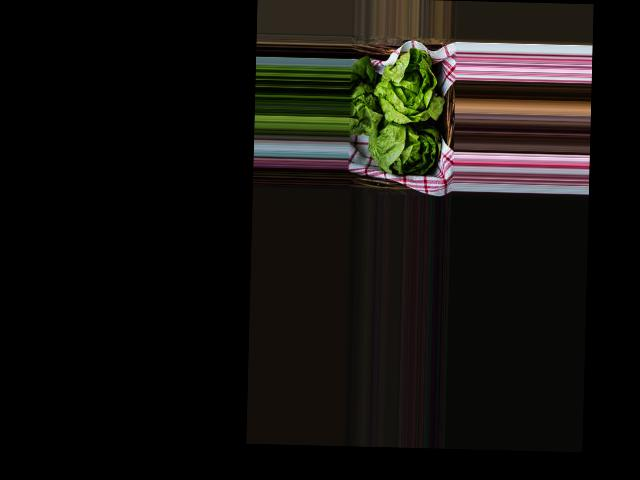lettuce: (356, 54, 439, 170)
